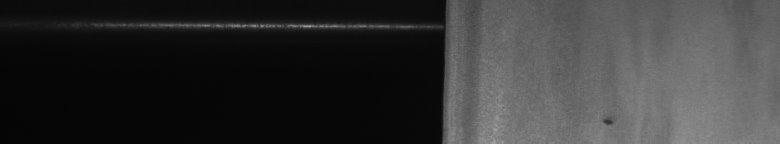fi: (597, 112, 615, 132)
